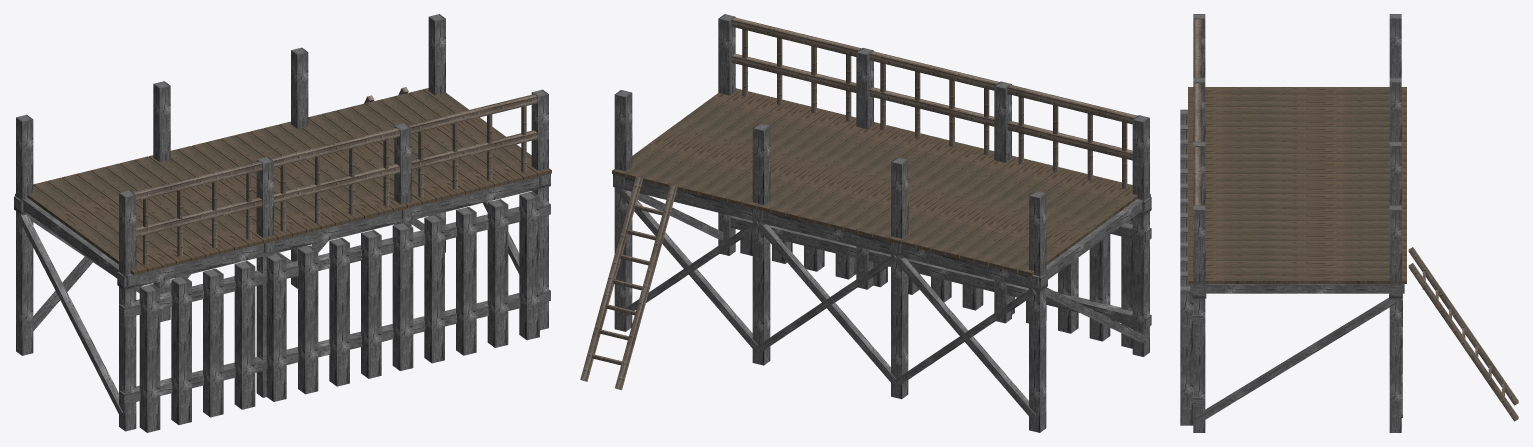
File: cadafal.glb
3 renders of one model, left to right at view 1: azimuth 30°, elevation 25°; view 2: azimuth 150°, elevation 25°; view 3: azimuth 270°, elevation 25°, orthographic. The views are drawn at different scales.
Size of the model in its own units: 6.2 by 3.27 by 4.48.
Materials: 3 (3 with a texture image).
